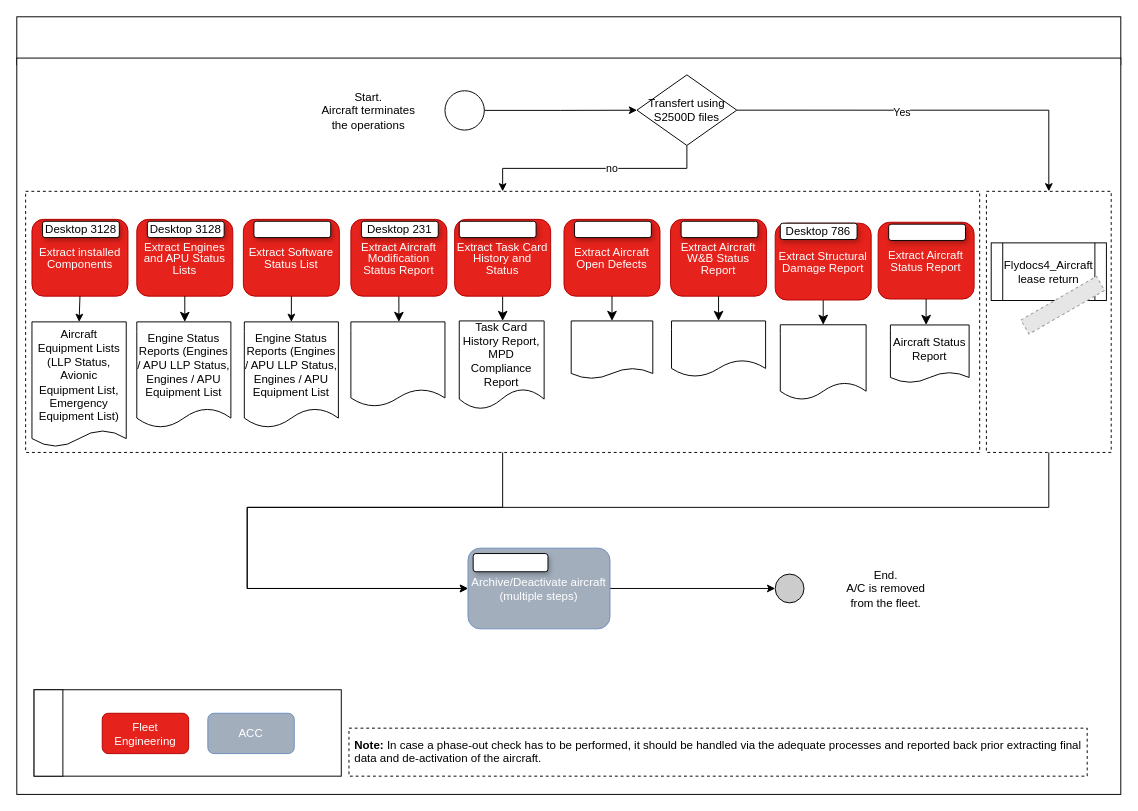
The diagram is 1138 pixels wide and 811 high, and some of its shapes have lost their labels. Grey dashed boxes stand in for pictures. Here are the shapes that lost their labels. From the top down, the centre of each, then its label:
the point at 568,40: 02.02 - Aircraft Phase-out
the point at 292,230: Desktop 1832
the point at 498,230: Desktop 673
the point at 613,230: Desktop 1
the point at 720,230: Desktop 292
the point at 927,233: Desktop 476
the point at 397,364: Aircraft Modification Status Reports (AD, SB, STC status reports)
the point at 611,349: Deferred Defects Status
the point at 718,348: Aircraft W&B Report
the point at 822,362: Dent & Buckle Chart / List, Aircraft Repair Status
the point at 511,563: Desktop 308
the point at 48,732: LEGEND
